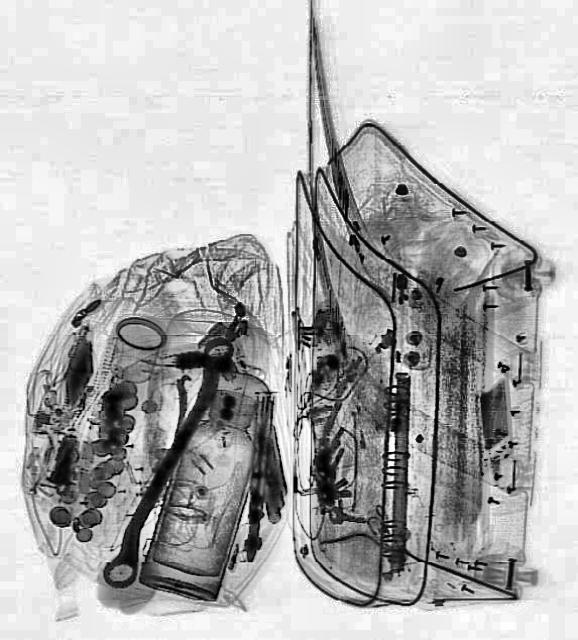Wrench: (95, 331, 242, 593)
